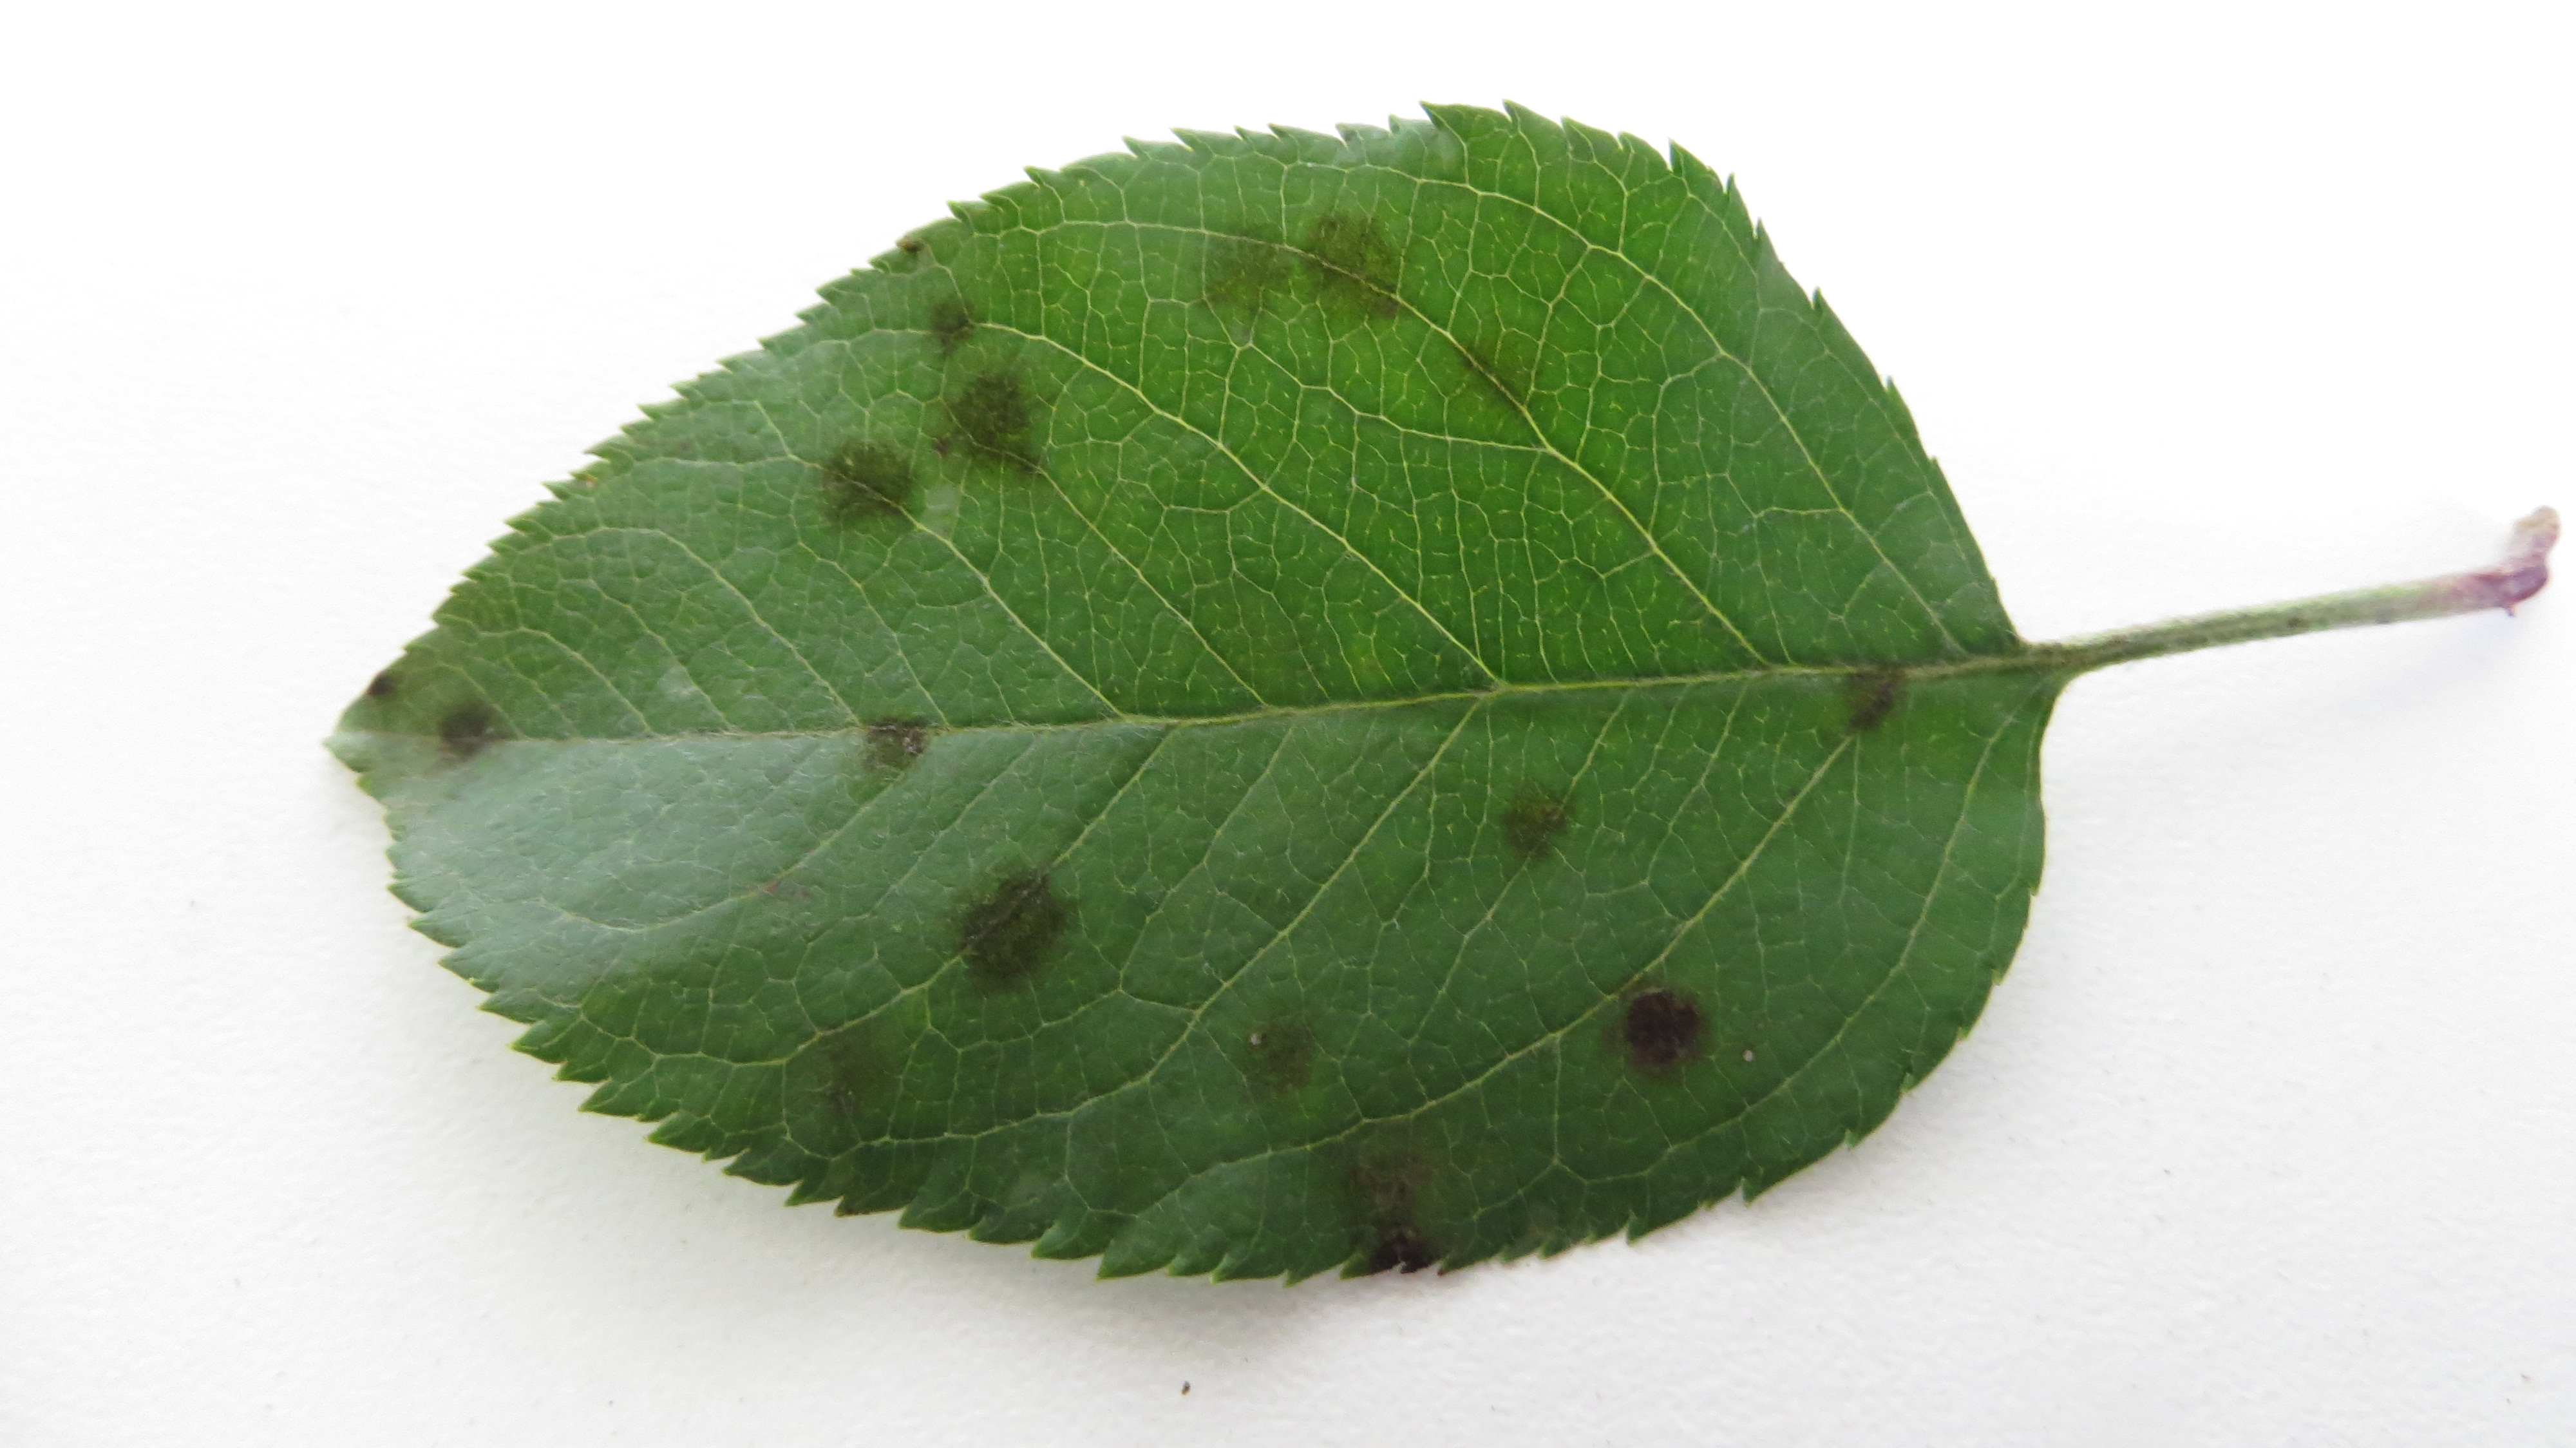sarna: (957, 862, 1081, 1013), (929, 352, 1054, 487), (1293, 202, 1412, 340), (800, 1036, 918, 1172), (803, 425, 929, 549), (1184, 211, 1299, 338), (1608, 967, 1720, 1094), (1821, 632, 1918, 761), (1215, 995, 1329, 1099), (1444, 336, 1543, 432), (1491, 779, 1589, 867), (849, 694, 948, 779), (1336, 1112, 1421, 1207), (1352, 1211, 1449, 1294), (425, 694, 517, 777), (911, 278, 996, 366), (361, 653, 419, 722)
